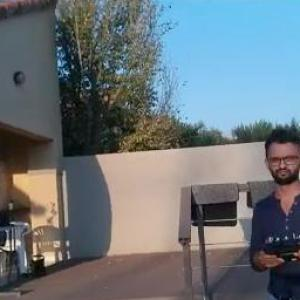follow: (245, 121, 300, 299)
